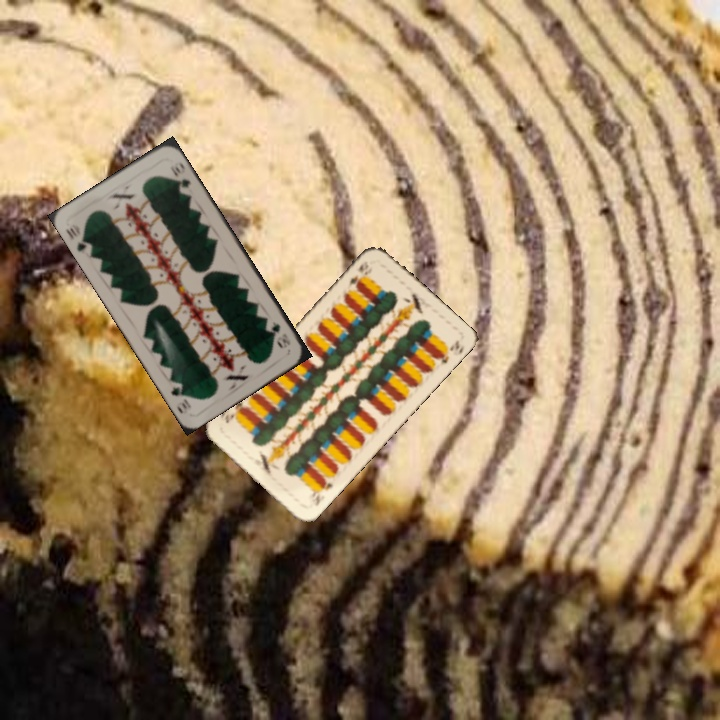E10: (307, 475, 335, 509), (344, 257, 371, 291)
G10: (61, 220, 95, 254), (267, 317, 293, 350)
